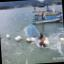fishing boat: (31, 3, 62, 17), (30, 14, 64, 26)
